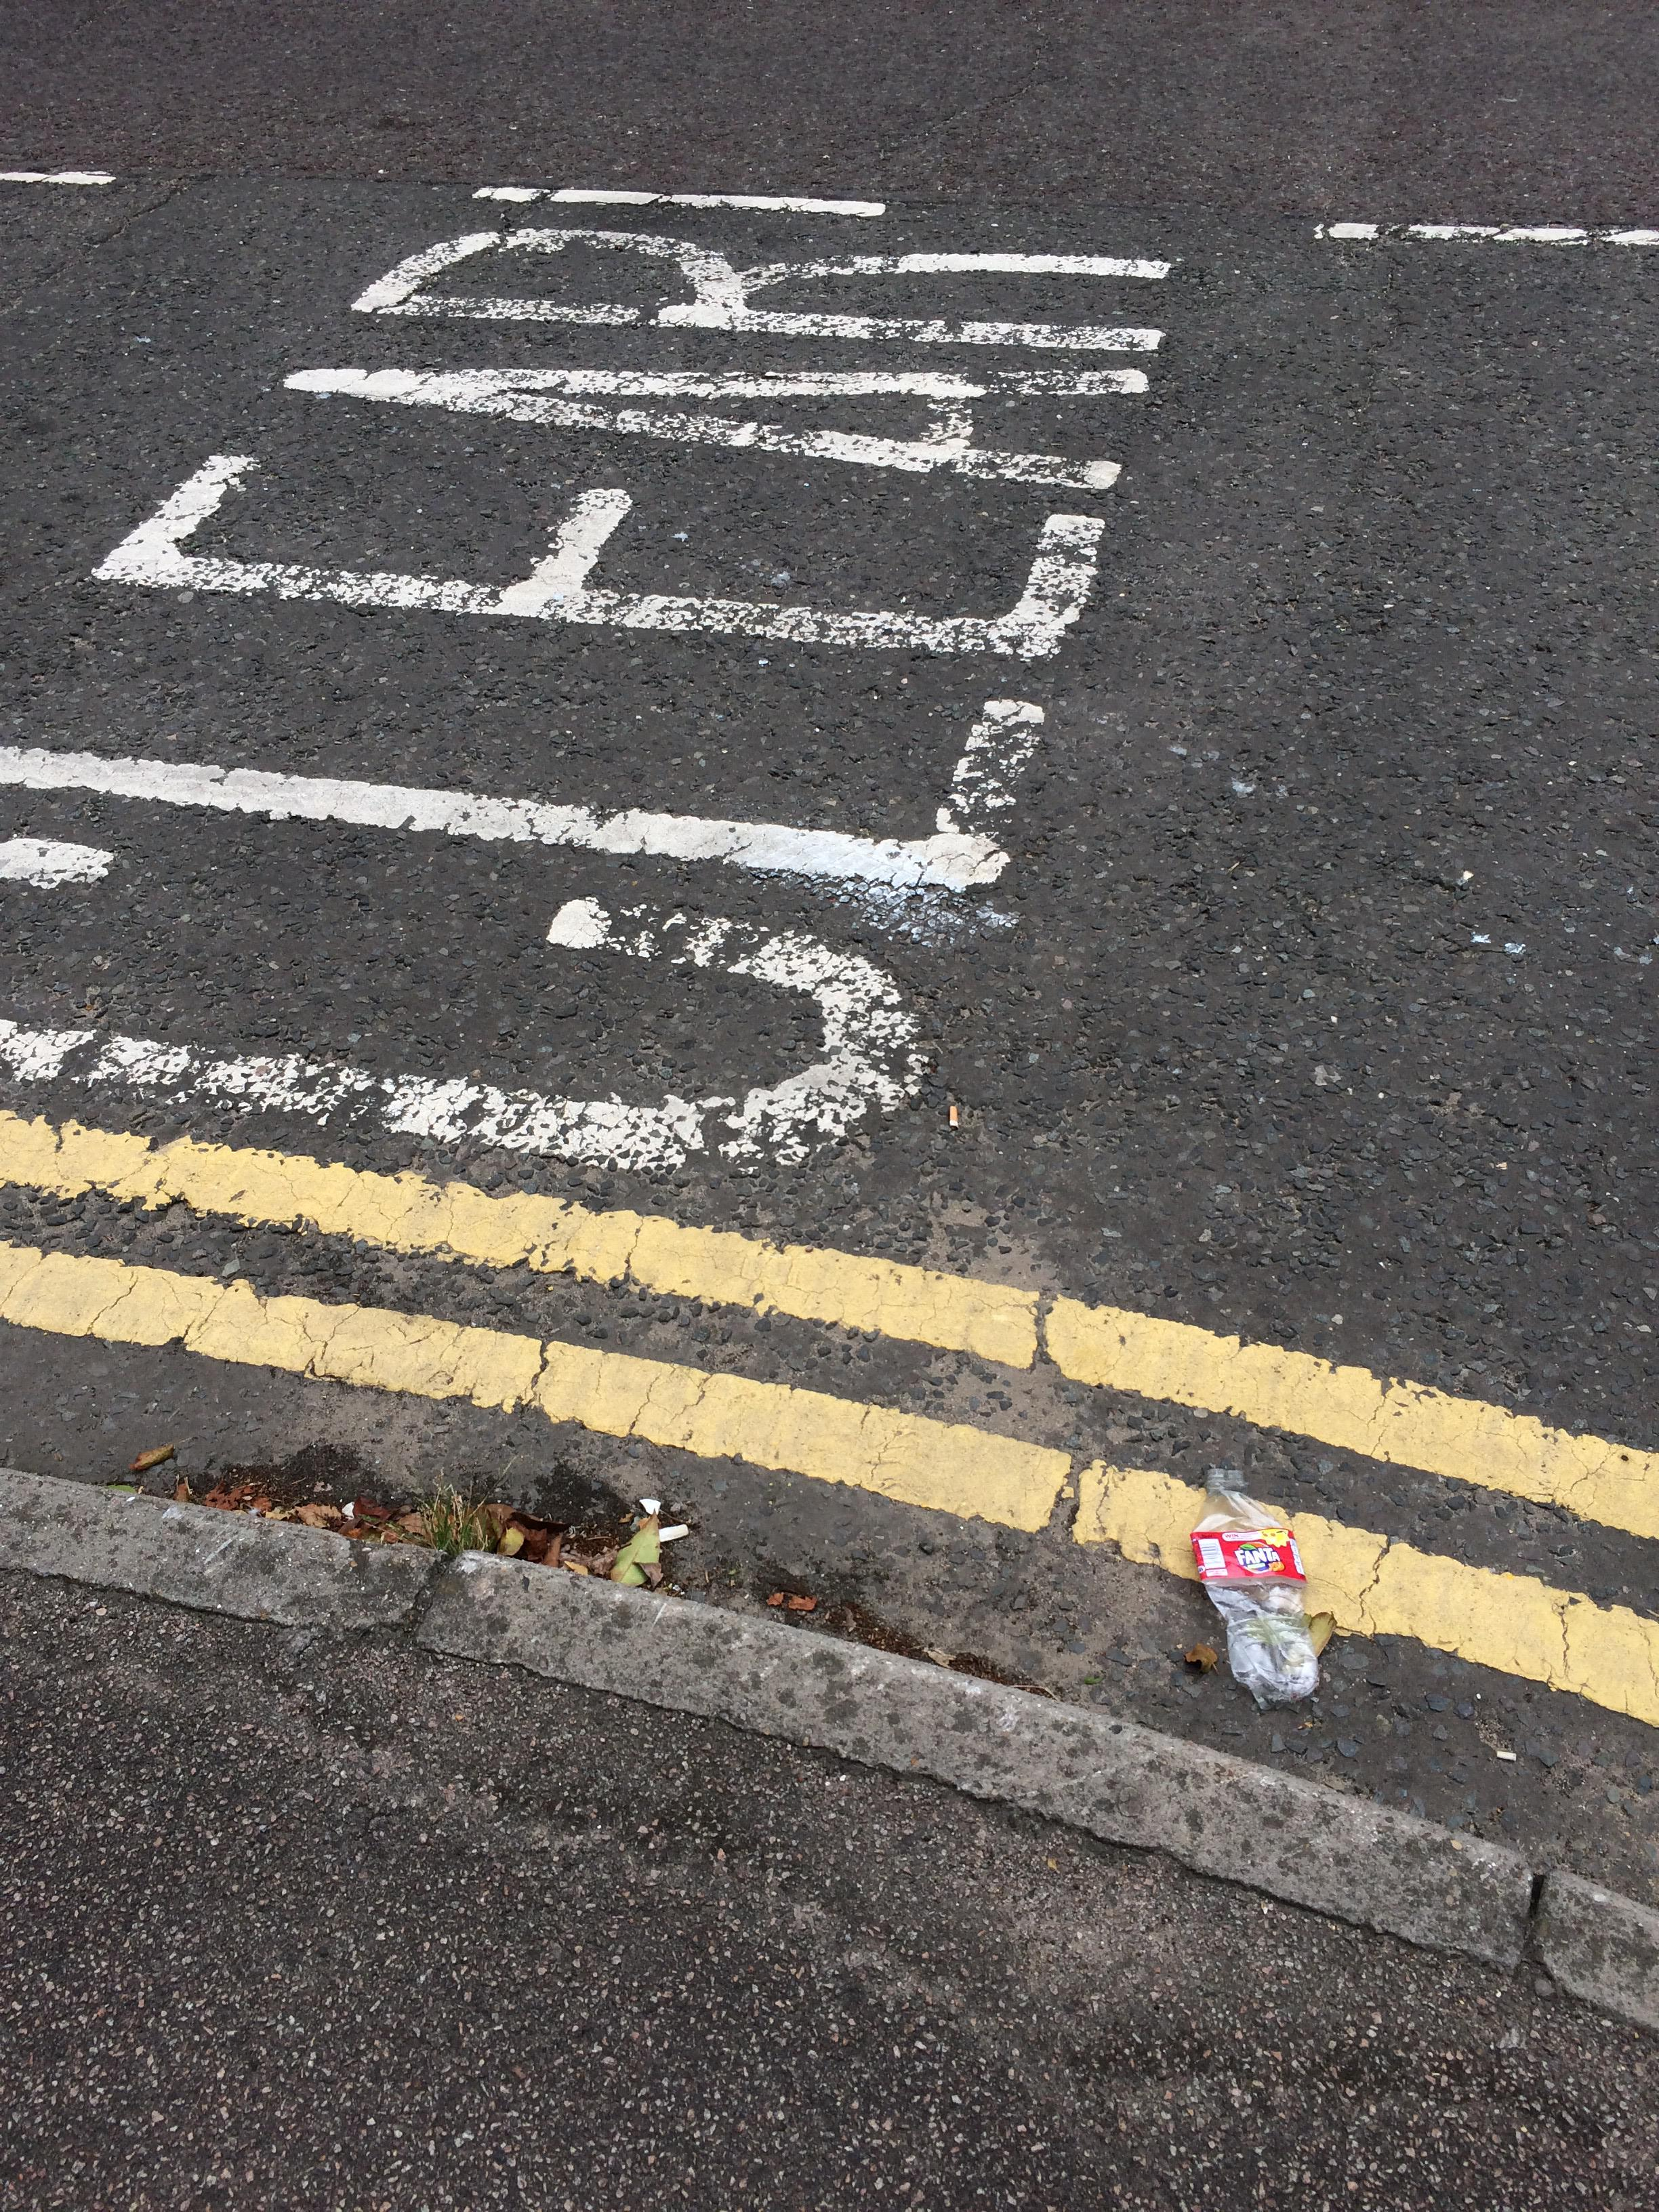Trash: (1175, 1451, 1338, 1714)
